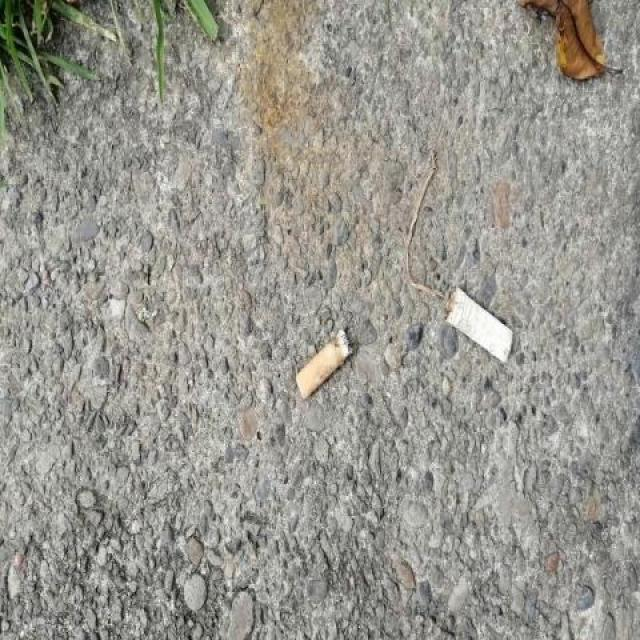non-organic waste: (442, 281, 517, 370), (291, 326, 358, 405)
